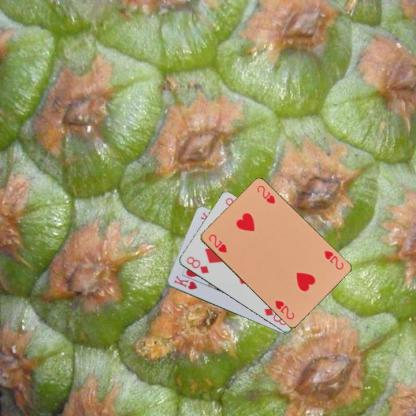2h: (321, 248, 345, 271), (206, 232, 228, 254)
8d: (184, 254, 209, 275)
Kh: (172, 273, 198, 291)
